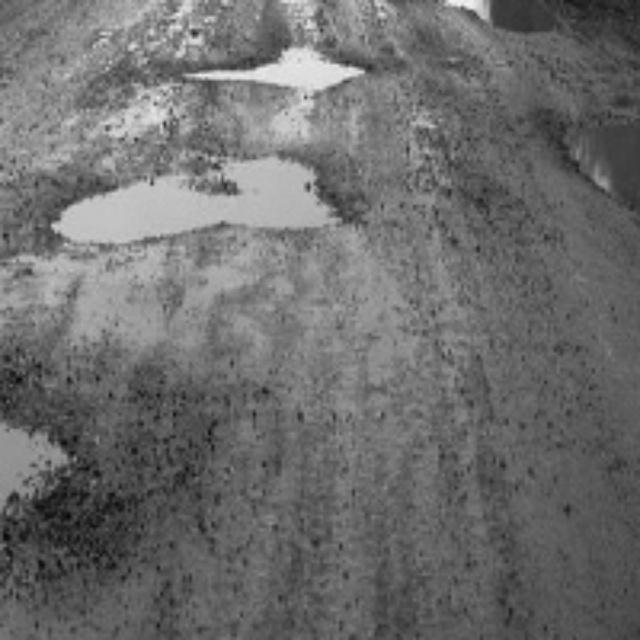Pothole: (90, 155, 345, 252), (0, 377, 96, 535), (212, 34, 370, 106), (558, 94, 640, 194), (449, 0, 581, 42)
